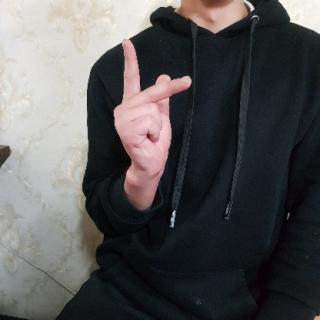DHAA: (110, 36, 196, 192)
